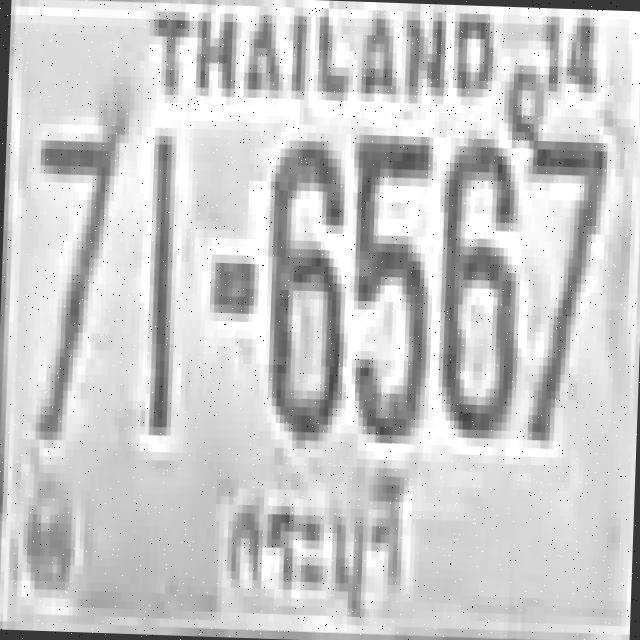1: (142, 127, 178, 427), (140, 126, 172, 426)
5: (344, 126, 430, 436)
6: (432, 129, 520, 431), (262, 132, 346, 432)
7: (26, 81, 130, 434), (518, 124, 604, 434)
SaraBuri: (216, 468, 414, 626)
